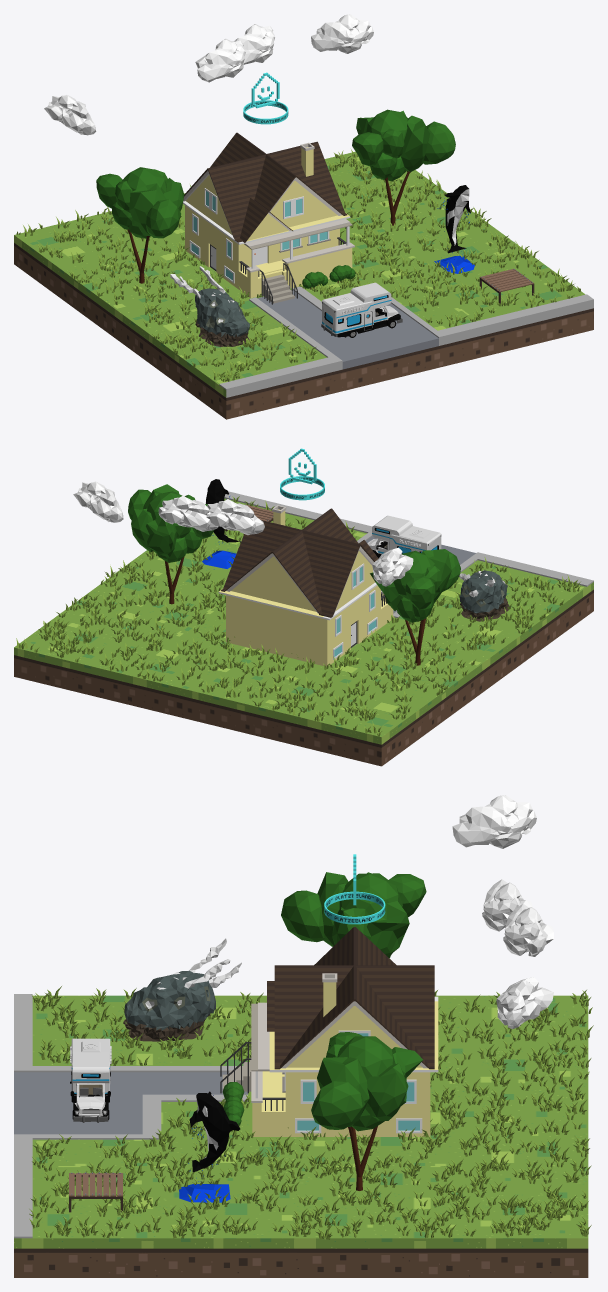
The picture shows the model from 3 angles, top to bottom: view 1: azimuth 30°, elevation 25°; view 2: azimuth 150°, elevation 25°; view 3: azimuth 270°, elevation 25°; orthographic projection. The views are drawn at different scales.
Parts seen in each view (by area): view 1: Cube.006, Cube.1555, Circle.012_Grass_0.192, Cube.007, tree, tree.001, VEHICLES_CAMPER, OBJRANDOM_METEORITE, ANIMAL_ORCA, TYPE_PREMIUM, Cube.009; view 2: Cube.006, Cube.1555, Circle.012_Grass_0.192, Cube.007, tree.001, tree, OBJRANDOM_METEORITE, VEHICLES_CAMPER, ANIMAL_ORCA, TYPE_PREMIUM; view 3: Cube.006, Circle.012_Grass_0.192, Cube.1555, tree, Cube.007, tree.001, OBJRANDOM_METEORITE, VEHICLES_CAMPER, ANIMAL_ORCA, Cube.009, TYPE_PREMIUM.
Boxes of the visible parts, left/top/right/bottom form: Cube.006: left=14, top=151, right=593, bottom=419; Cube.1555: left=183, top=132, right=354, bottom=304; Circle.012_Grass_0.192: left=16, top=149, right=580, bottom=381; Cube.007: left=44, top=14, right=373, bottom=135; tree: left=352, top=109, right=455, bottom=225; tree.001: left=96, top=167, right=184, bottom=283; VEHICLES_CAMPER: left=321, top=282, right=402, bottom=337; OBJRANDOM_METEORITE: left=170, top=266, right=249, bottom=346; ANIMAL_ORCA: left=434, top=185, right=474, bottom=273; TYPE_PREMIUM: left=243, top=72, right=288, bottom=124; Cube.009: left=479, top=268, right=534, bottom=303; Cube.006: left=14, top=491, right=593, bottom=766; Cube.1555: left=218, top=505, right=393, bottom=666; Circle.012_Grass_0.192: left=16, top=496, right=580, bottom=736; Cube.007: left=73, top=481, right=413, bottom=586; tree.001: left=370, top=549, right=460, bottom=665; tree: left=128, top=484, right=214, bottom=604; OBJRANDOM_METEORITE: left=459, top=570, right=509, bottom=621; VEHICLES_CAMPER: left=367, top=515, right=441, bottom=558; ANIMAL_ORCA: left=202, top=479, right=240, bottom=569; TYPE_PREMIUM: left=280, top=448, right=324, bottom=500; Cube.006: left=14, top=994, right=588, bottom=1277; Circle.012_Grass_0.192: left=29, top=986, right=593, bottom=1239; Cube.1555: left=220, top=927, right=438, bottom=1136; tree: left=311, top=1032, right=422, bottom=1190; Cube.007: left=452, top=795, right=553, bottom=1029; tree.001: left=281, top=872, right=426, bottom=958; OBJRANDOM_METEORITE: left=123, top=938, right=241, bottom=1041; VEHICLES_CAMPER: left=70, top=1038, right=111, bottom=1122; ANIMAL_ORCA: left=179, top=1091, right=240, bottom=1202; Cube.009: left=69, top=1172, right=122, bottom=1212; TYPE_PREMIUM: left=324, top=854, right=385, bottom=924.
Bounding box in the file's own units: 4071 × 2300 × 4040.
Materials: 39 (4 with a texture image).
